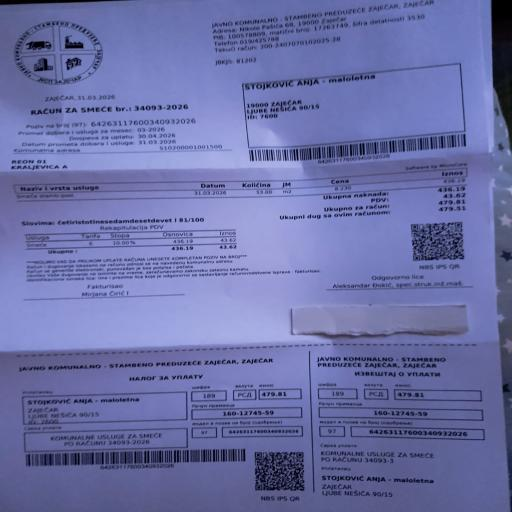racun_za_smece: (12, 165, 471, 218)
